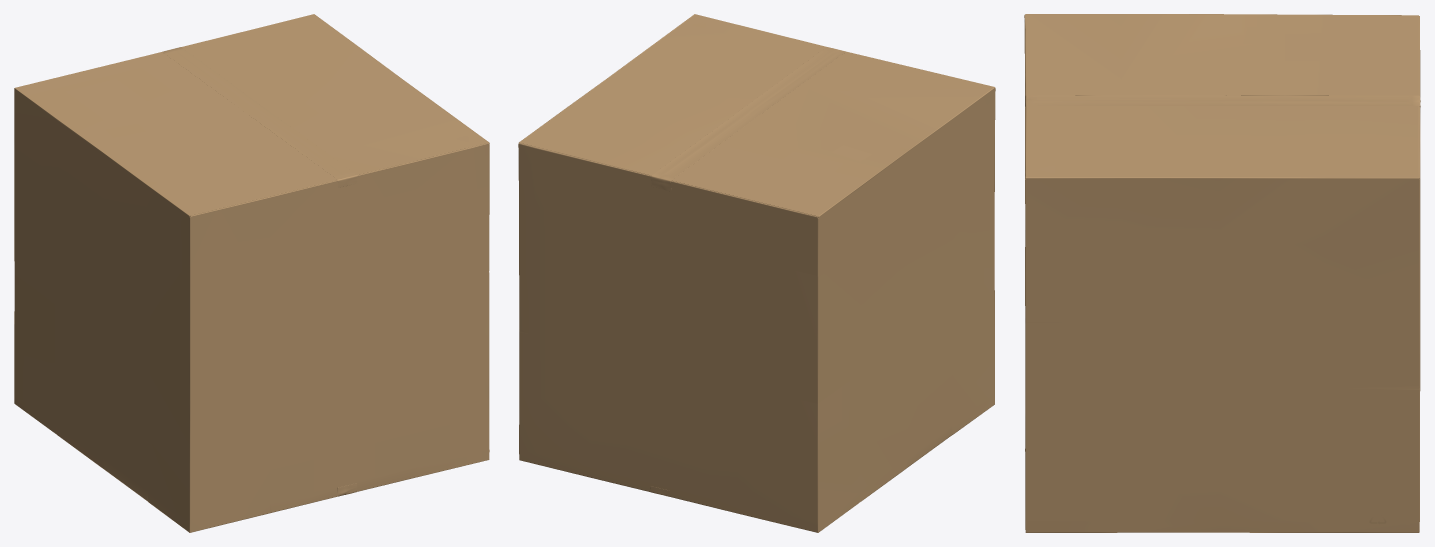
File: box_corrugated_white_a12.glb
3 renders of one model, left to right at view 1: azimuth 30°, elevation 25°; view 2: azimuth 150°, elevation 25°; view 3: azimuth 270°, elevation 25°, orthographic. The views are drawn at different scales.
Size of the model in its own units: 0.5119 by 0.5172 by 0.5214.
